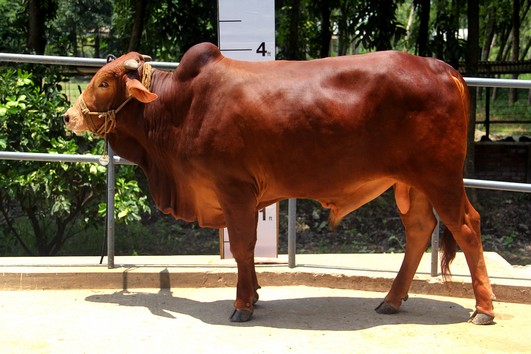cow: (59, 40, 496, 330)
